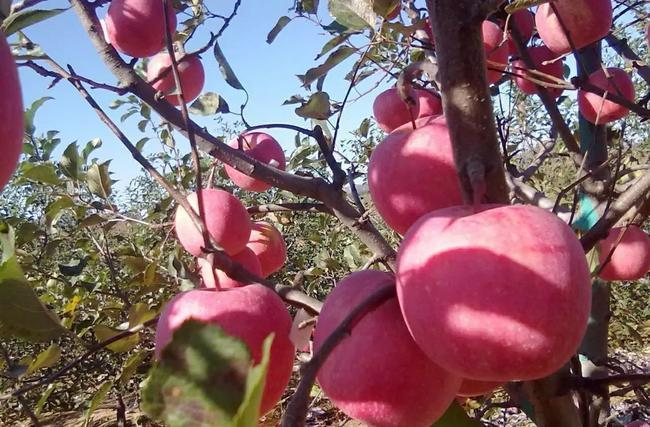apple: (395, 203, 594, 383), (314, 267, 458, 425), (367, 112, 463, 233)
